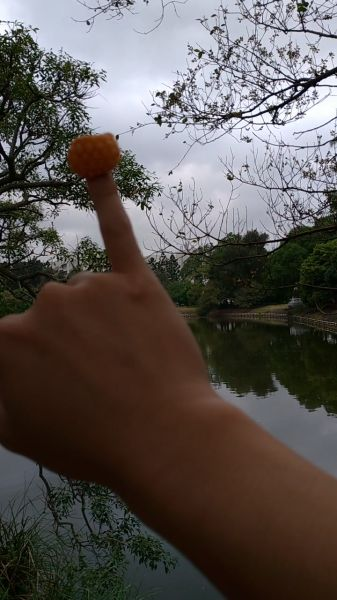eggs: (67, 131, 119, 176)
